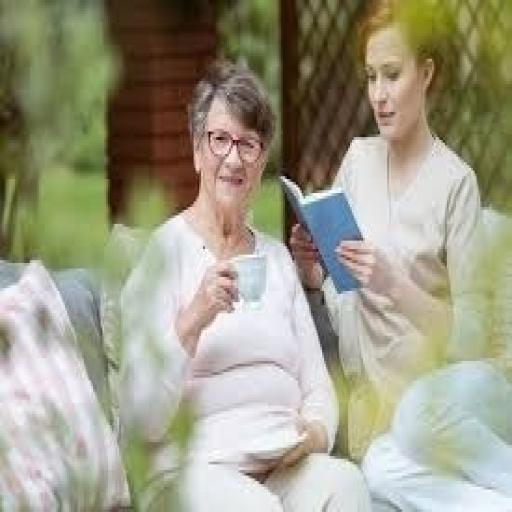drinking: (225, 252, 268, 310)
